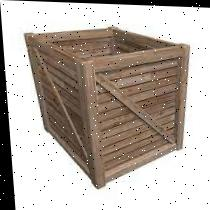cube: (21, 25, 198, 192)
